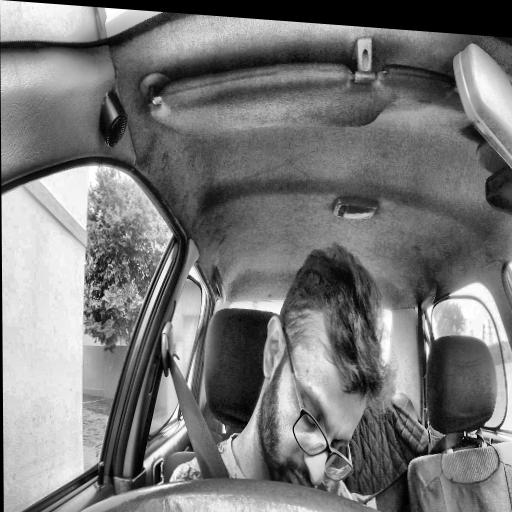drowsy: (258, 238, 393, 505)
